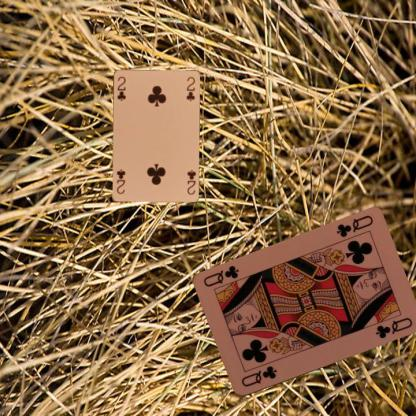2c: (184, 167, 197, 196), (115, 74, 127, 102)
Qc: (334, 213, 374, 239), (239, 363, 278, 389)
